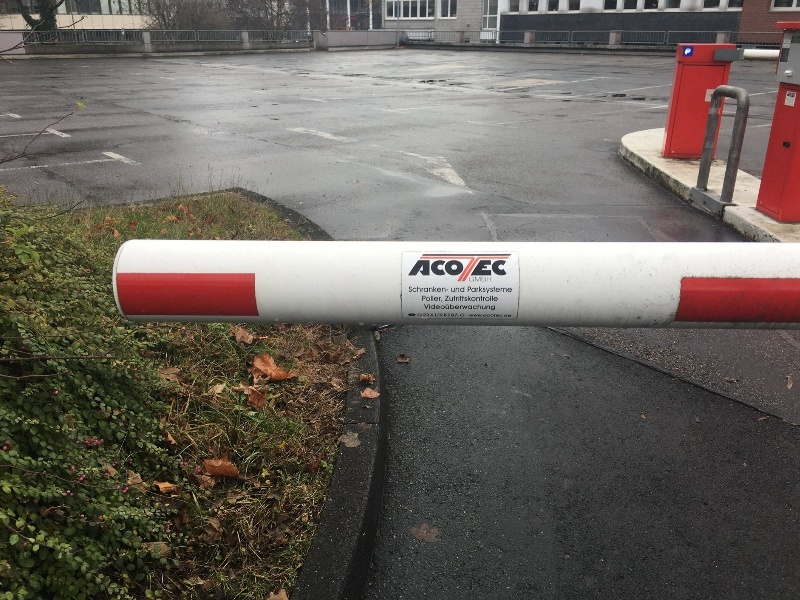text: (481, 260, 496, 277), (433, 260, 448, 276), (449, 260, 464, 276), (419, 260, 432, 276), (497, 260, 508, 277), (481, 287, 496, 295), (497, 287, 512, 295), (433, 304, 448, 311), (449, 304, 464, 311), (465, 304, 480, 311), (481, 304, 496, 311), (433, 287, 449, 293), (468, 287, 480, 295), (417, 287, 432, 293), (449, 296, 464, 302), (465, 296, 480, 302), (481, 296, 496, 302), (451, 287, 464, 293), (417, 313, 432, 318), (433, 313, 448, 318), (449, 313, 464, 318), (465, 313, 480, 318), (481, 313, 496, 318), (497, 313, 512, 318), (422, 296, 432, 302), (433, 296, 443, 302), (788, 93, 800, 98), (424, 304, 432, 311), (469, 277, 480, 282), (481, 277, 492, 282), (409, 287, 416, 293), (689, 48, 692, 55), (445, 296, 448, 302), (686, 48, 688, 55), (497, 296, 498, 302)
